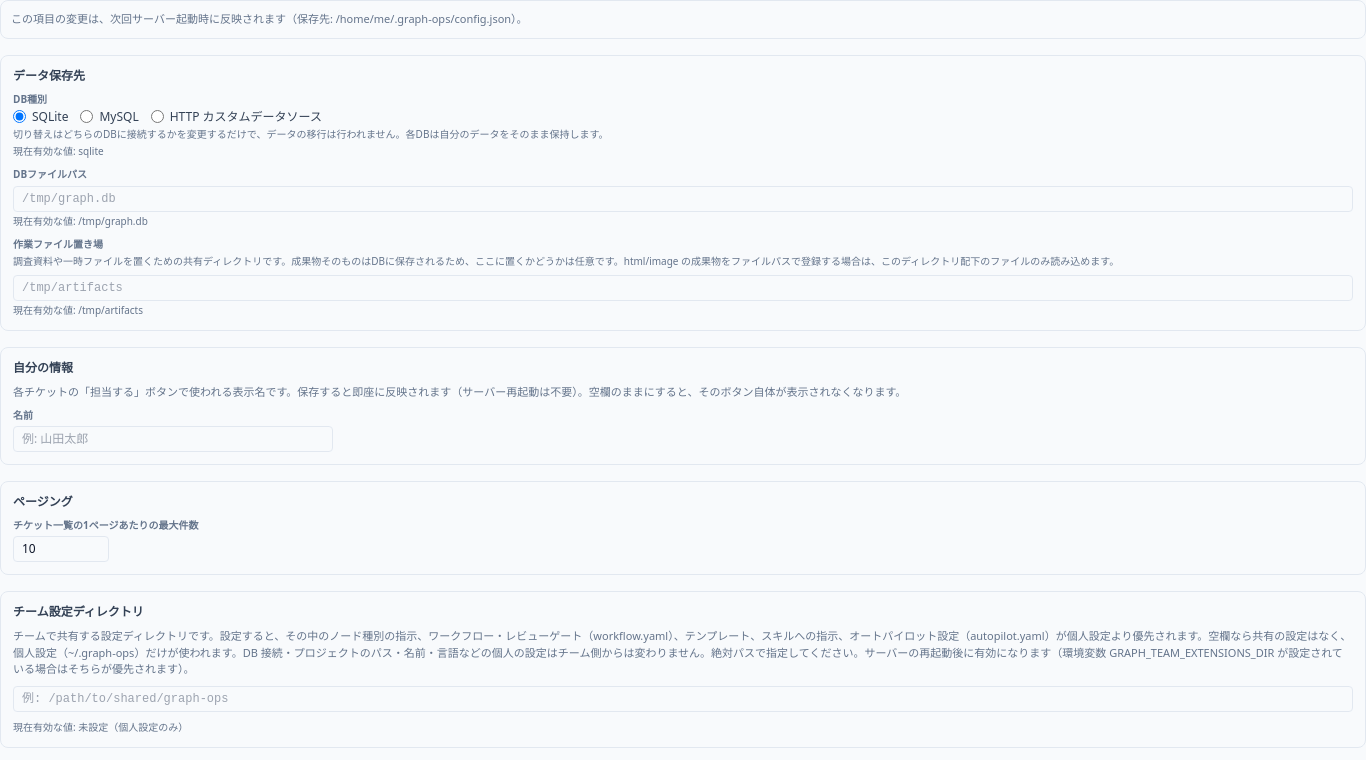
Scenario: AppSettingsEditor: HTTP custom data source › selecting the HTTP backend shows the URL field and a password-type token field
Expected: the field labelled "エンドポイント URL" is not shown
Click the radio button labelled "HTTP カスタムデータソース" at coordinates (157, 116), box x1=151 y1=110 x2=164 y2=123
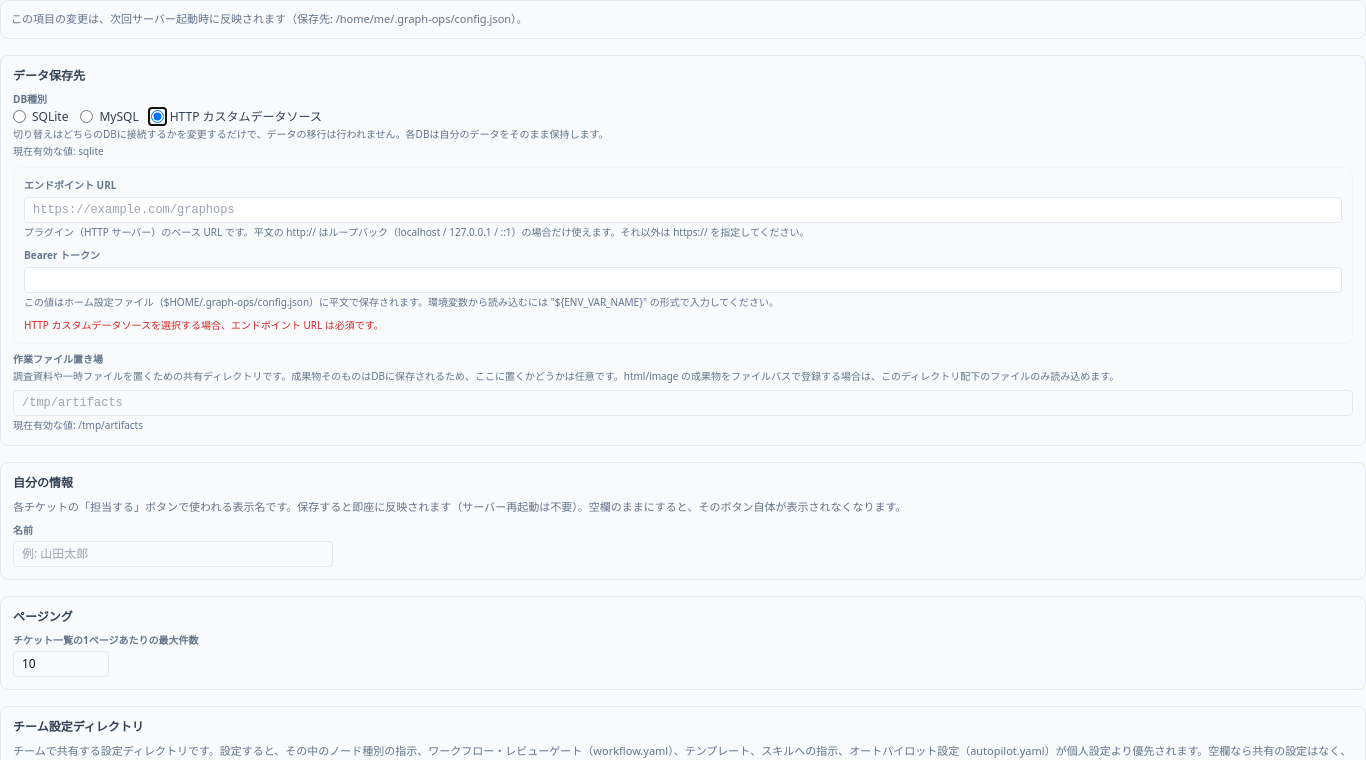
Now the field labelled "エンドポイント URL" is shown, box x1=24 y1=196 x2=1342 y2=222
